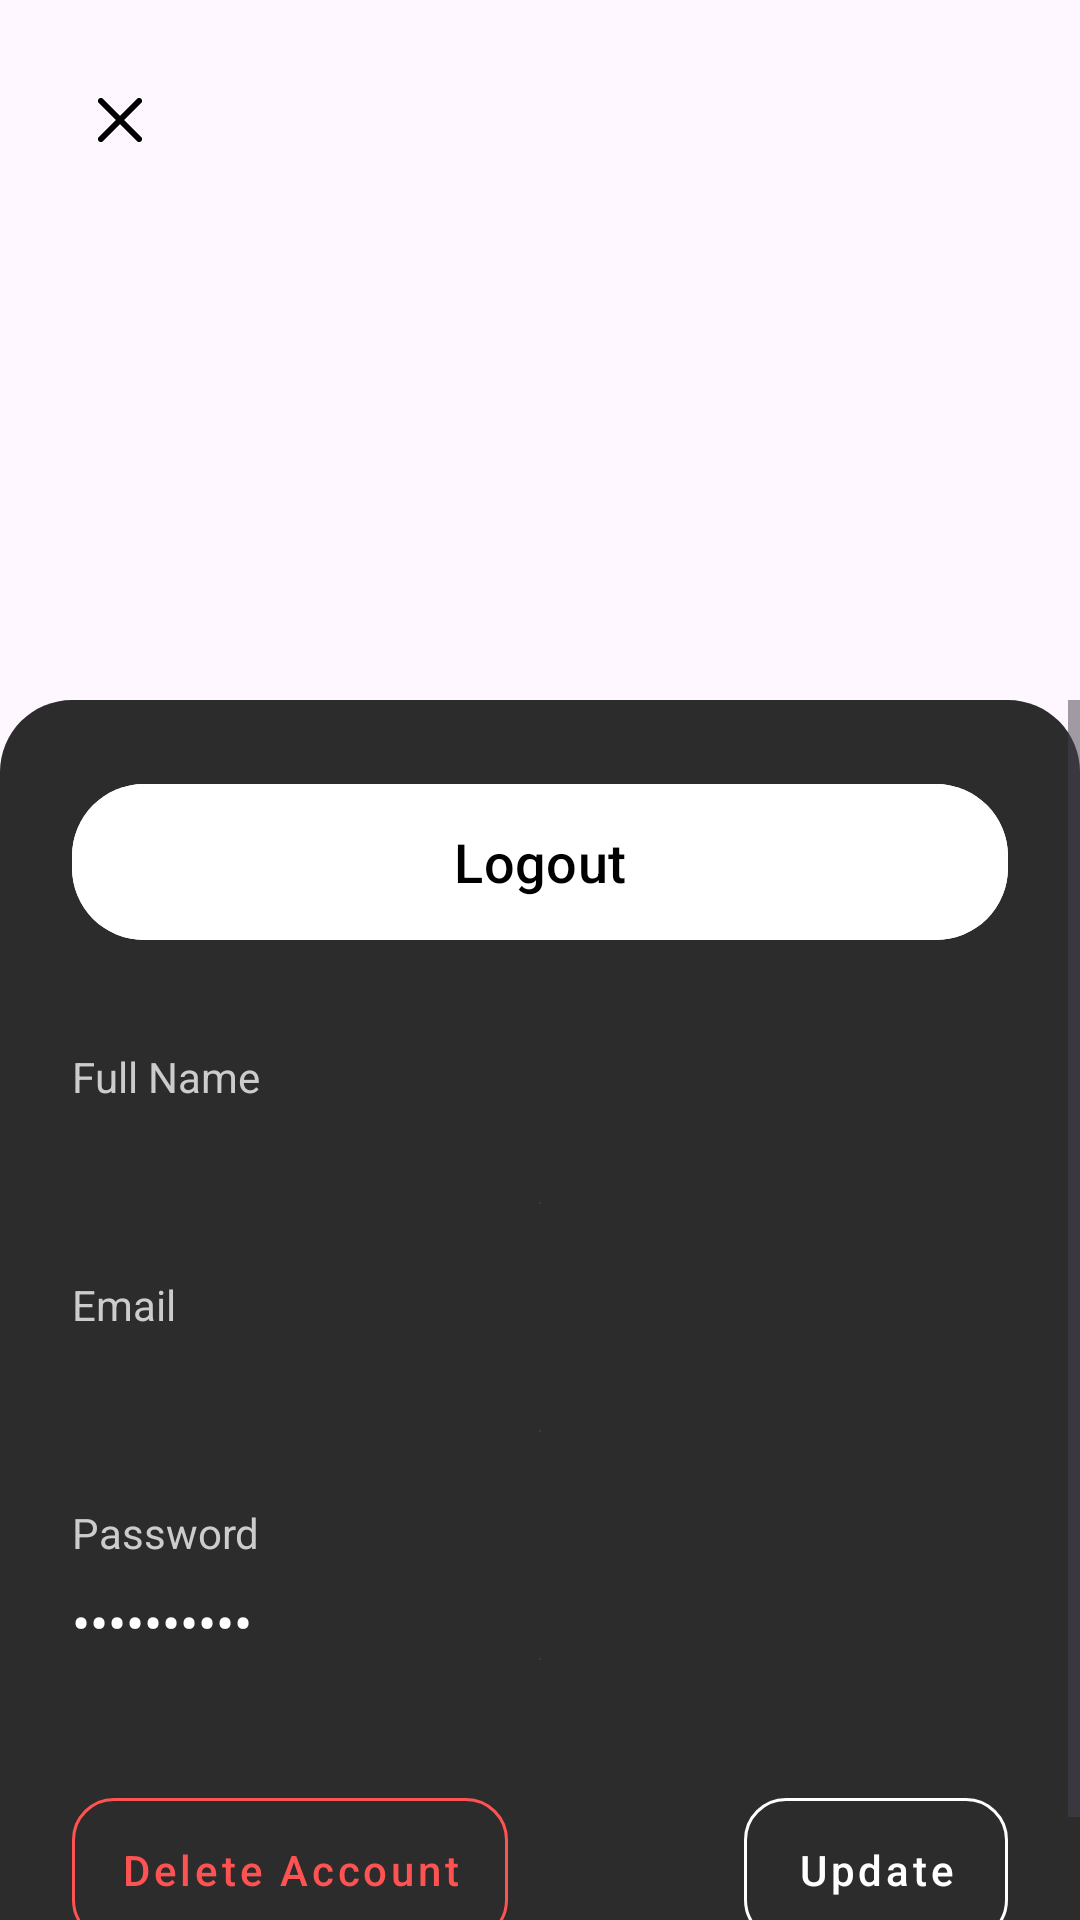

Where icons sit on this 1080 × 1920 app screen, as (x1, y1, x2, y2):
close: (98, 98, 142, 142)
